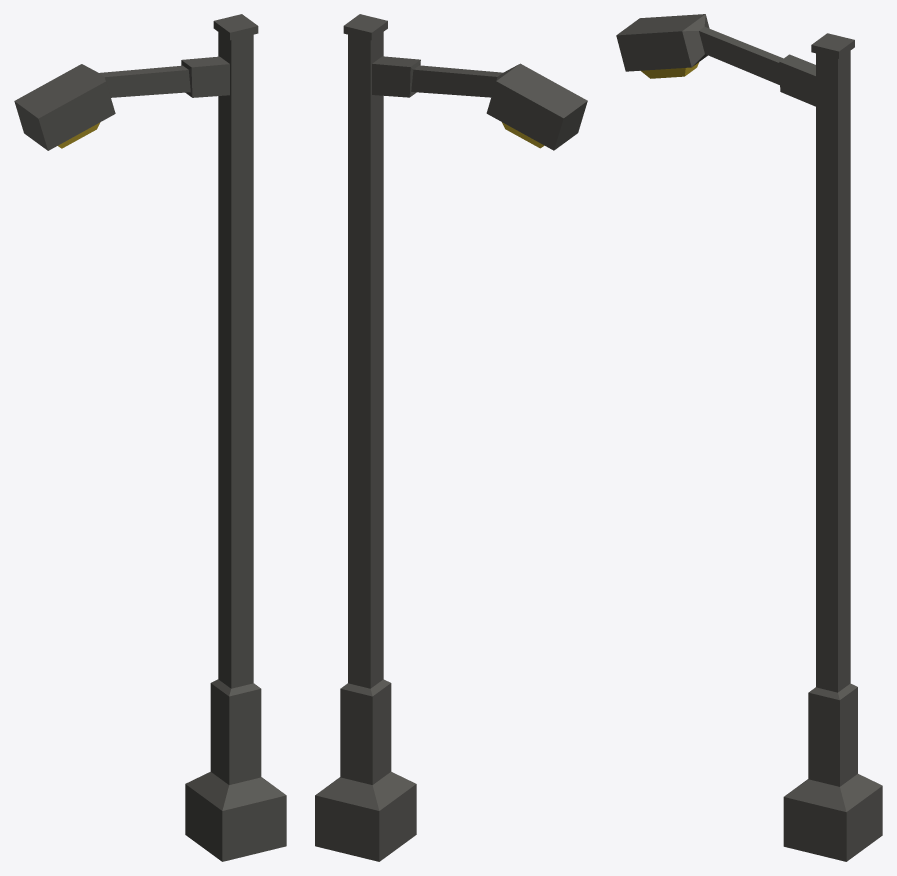
File: street_lamp.glb
3 renders of one model, left to right at view 1: azimuth 30°, elevation 25°; view 2: azimuth 150°, elevation 25°; view 3: azimuth 330°, elevation 25°, orthographic. The views are drawn at different scales.
Visible parts, largest first — view 1: Light_Mat_0; view 2: Light_Mat_0; view 3: Light_Mat_0.
Part boxes in pixels (x1,y1,x2,y2): Light_Mat_0: [14, 14, 286, 861]; Light_Mat_0: [315, 14, 587, 861]; Light_Mat_0: [616, 14, 882, 861].
Size of the model in its own units: 2.51 by 8.1 by 0.6666.
1 material, 1 textured.
